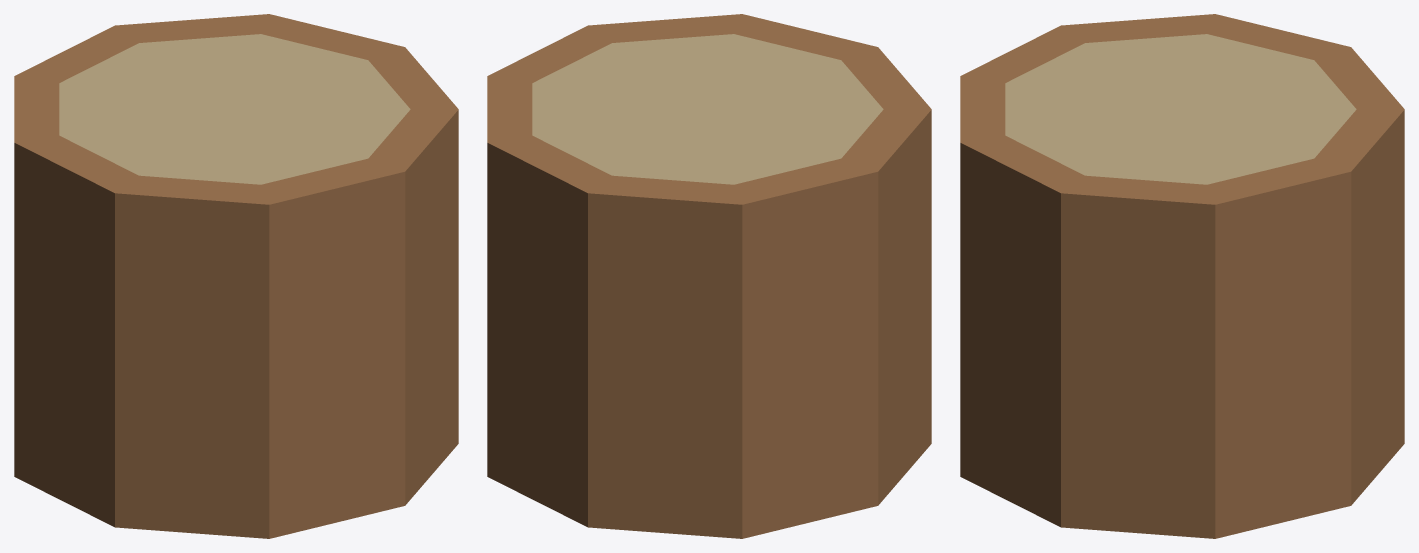
The model's file is Bench_3.fbx.
3 views of the same model, side by side, from view 1: azimuth 30°, elevation 25°; view 2: azimuth 150°, elevation 25°; view 3: azimuth 270°, elevation 25° (orthographic).
Parts seen in each view (by area): view 1: Bench3_mesh; view 2: Bench3_mesh; view 3: Bench3_mesh.
Part boxes in pixels (box(x1,y1,x2,y2)): Bench3_mesh: box(14, 14, 458, 538); Bench3_mesh: box(487, 14, 931, 538); Bench3_mesh: box(960, 14, 1404, 538).
Size of the model in its own units: 55.44 by 45.28 by 54.6.
